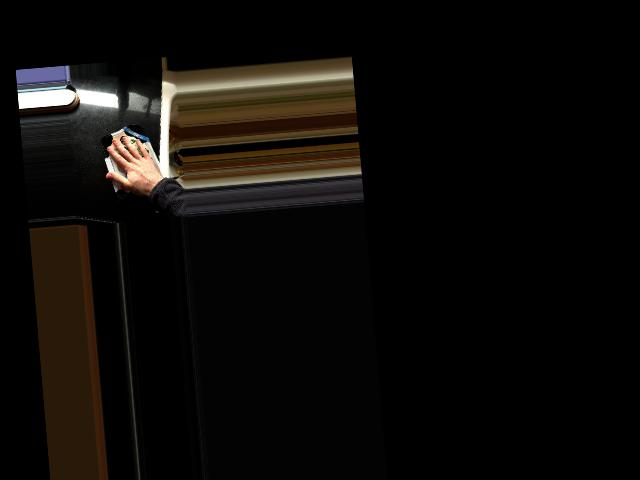cheese: (96, 120, 169, 202)
